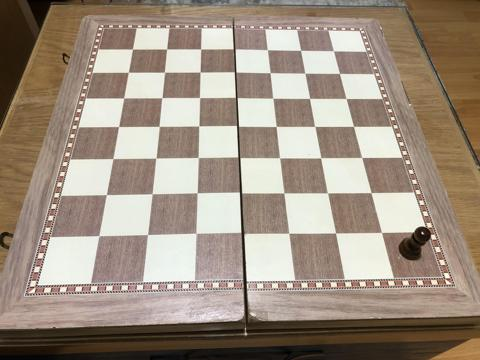xcorner: (328, 44, 341, 57), (228, 43, 241, 56), (194, 43, 207, 56), (160, 43, 173, 56), (121, 66, 134, 79), (341, 92, 354, 105), (304, 92, 317, 105), (267, 92, 280, 105), (230, 92, 243, 105), (348, 120, 361, 133), (231, 121, 244, 134), (111, 121, 124, 134), (274, 152, 287, 165), (148, 153, 161, 166), (366, 187, 379, 200), (99, 190, 112, 203), (376, 227, 389, 240), (330, 228, 343, 241), (283, 229, 296, 242), (188, 230, 201, 243), (140, 231, 153, 244), (295, 44, 308, 56), (126, 43, 138, 56), (334, 67, 347, 79), (299, 67, 312, 79), (264, 67, 277, 79), (229, 67, 242, 79), (193, 67, 206, 79), (157, 67, 170, 79), (193, 92, 205, 105), (155, 92, 167, 105), (117, 92, 129, 105), (310, 120, 322, 133), (192, 121, 204, 134), (152, 121, 164, 134), (357, 152, 369, 165), (316, 152, 328, 165), (191, 153, 203, 166), (322, 188, 335, 200), (279, 188, 291, 201), (234, 189, 247, 201), (190, 189, 202, 202), (236, 230, 249, 242), (262, 44, 274, 56), (271, 121, 283, 133), (233, 153, 245, 165), (106, 154, 118, 166), (145, 190, 157, 202), (92, 232, 104, 244)
